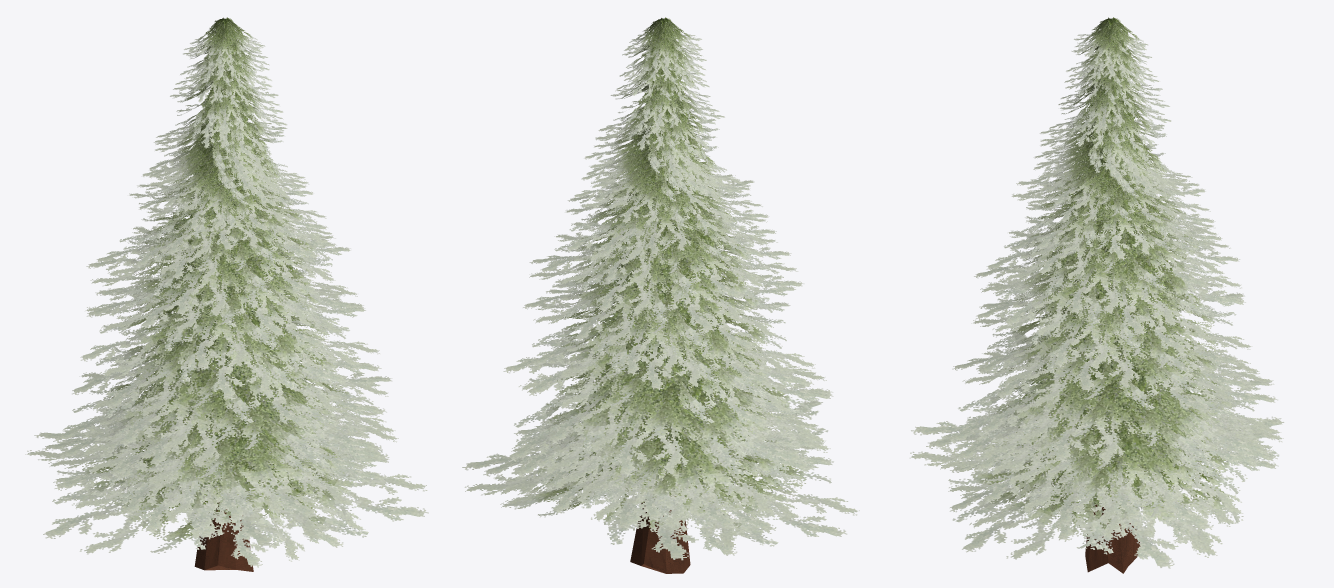
Rendered from SnowSpruce.glb.
3 views of the same model, side by side, from view 1: azimuth 30°, elevation 25°; view 2: azimuth 150°, elevation 25°; view 3: azimuth 270°, elevation 25° (orthographic).
Visible parts, largest first — view 1: Cylinder.016; view 2: Cylinder.016; view 3: Cylinder.016.
Part boxes in pixels (x1,y1,x2,y2): Cylinder.016: (25,17,428,571); Cylinder.016: (462,17,859,573); Cylinder.016: (909,17,1284,573).
Bounding box in the file's own units: 21.04 × 30.19 × 20.85.
2 materials, 2 textured.
